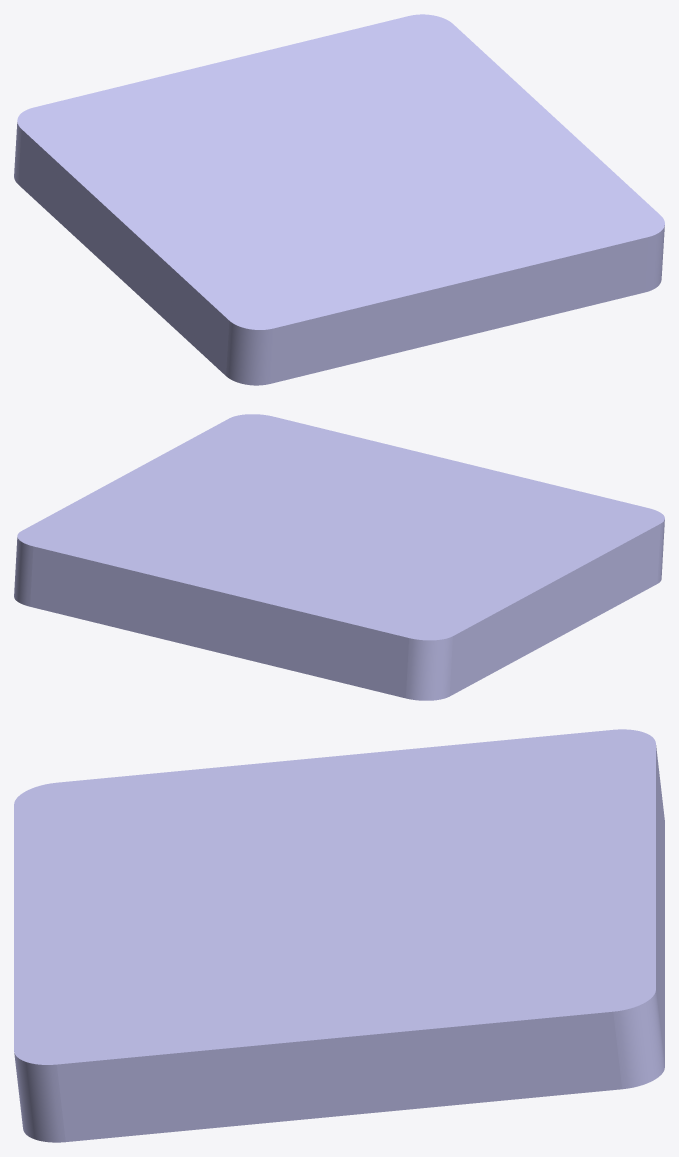
File: original-68.obj
3 views of the same model, one above another, from view 1: azimuth 30°, elevation 25°; view 2: azimuth 150°, elevation 25°; view 3: azimuth 270°, elevation 25° (orthographic). The views are drawn at different scales.
Parts seen in each view (by area): view 1: Group69/mesh199/mesh199-geometry#mesh199-geometry; view 2: Group69/mesh199/mesh199-geometry#mesh199-geometry; view 3: Group69/mesh199/mesh199-geometry#mesh199-geometry.
Part boxes in pixels (box(x1,y1,x2,y2)): Group69/mesh199/mesh199-geometry#mesh199-geometry: box(14, 14, 664, 385); Group69/mesh199/mesh199-geometry#mesh199-geometry: box(14, 414, 664, 700); Group69/mesh199/mesh199-geometry#mesh199-geometry: box(14, 729, 664, 1142).
Bounding box in the file's own units: 0.0689 × 0.0158 × 0.0673.
